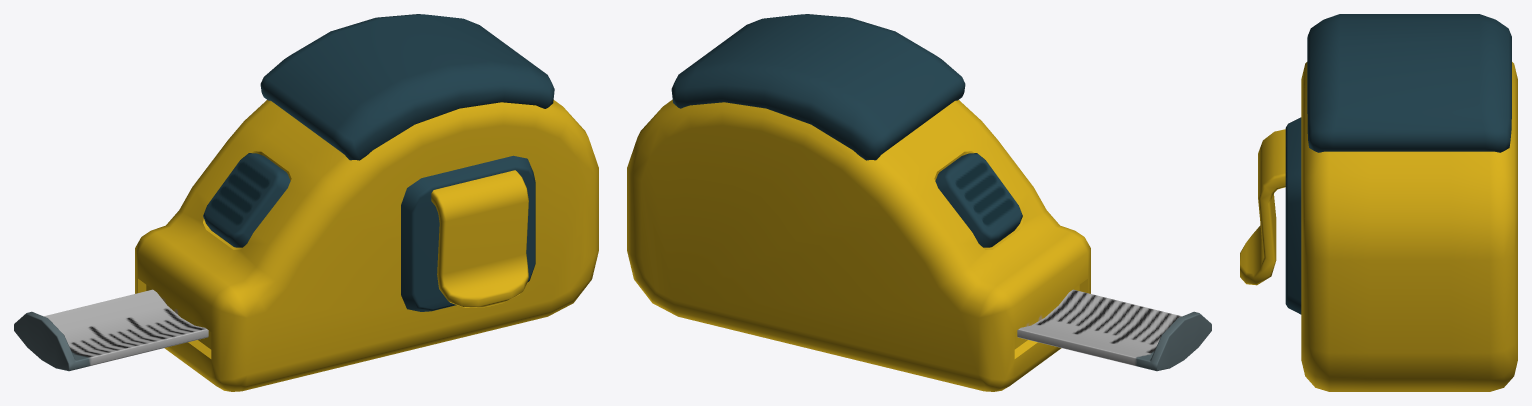
The model's file is tapemeasure_yellow.fbx.
3 renders of one model, left to right at view 1: azimuth 30°, elevation 25°; view 2: azimuth 150°, elevation 25°; view 3: azimuth 270°, elevation 25°, orthographic. The views are drawn at different scales.
Parts seen in each view (by area): view 1: polySurface12.002; view 2: polySurface12.002; view 3: polySurface12.002.
Part boxes in pixels (x1,y1,x2,y2): polySurface12.002: (14, 14, 598, 391); polySurface12.002: (627, 14, 1211, 391); polySurface12.002: (1240, 14, 1517, 391).
Size of the model in its own units: 1.01 by 0.5005 by 0.4265.
